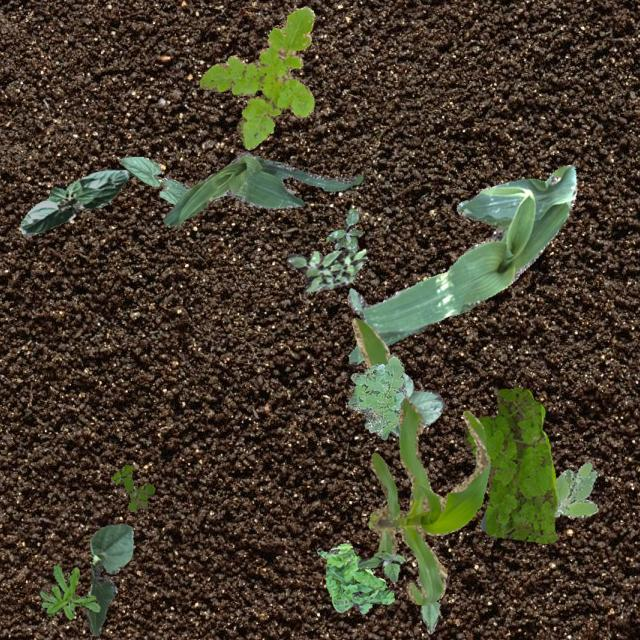crop: (347, 164, 576, 364), (350, 316, 490, 604), (162, 152, 364, 228), (20, 166, 130, 236), (84, 522, 132, 634), (364, 372, 444, 436), (119, 156, 190, 203), (416, 576, 438, 632)
weed: (198, 7, 314, 148), (462, 386, 556, 544), (316, 542, 394, 612), (346, 354, 404, 438), (284, 248, 366, 292), (38, 562, 98, 618), (552, 462, 596, 516), (110, 464, 154, 509), (326, 208, 362, 252), (356, 550, 404, 580)
